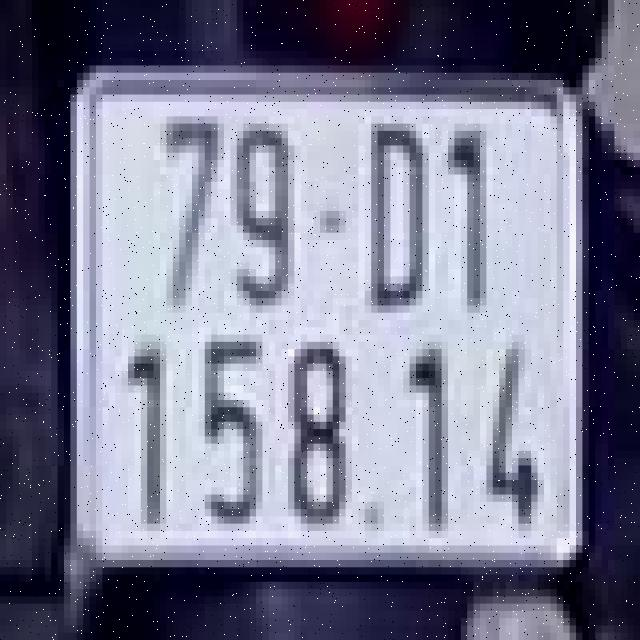1: (438, 116, 509, 328), (119, 327, 182, 538), (400, 338, 464, 542)
4: (476, 334, 554, 531)
5: (185, 327, 268, 531)
7: (141, 109, 224, 320)
8: (275, 327, 365, 538)
9: (230, 113, 320, 309)
D: (358, 109, 436, 313)
